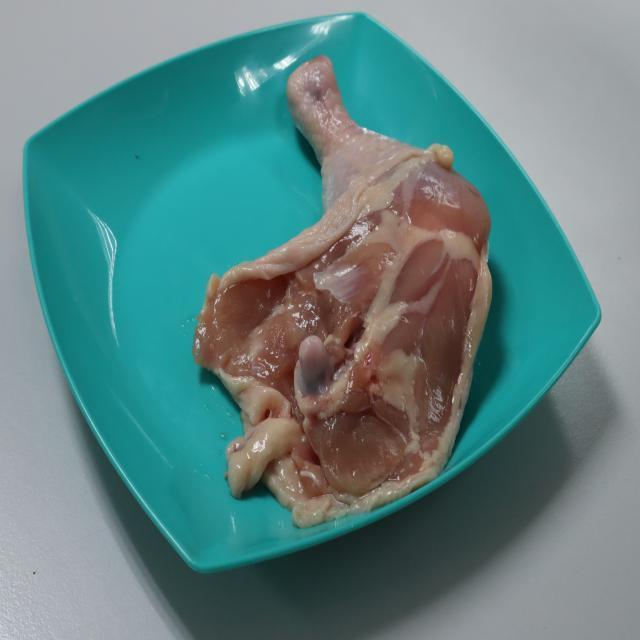quater: (208, 60, 484, 489)
